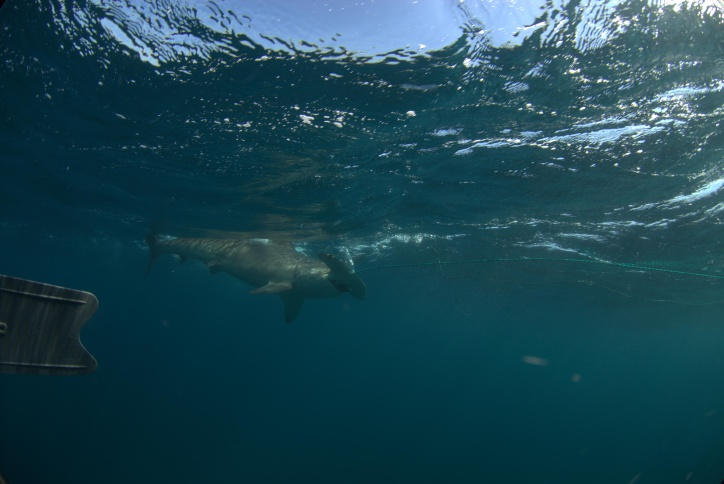Hammer: (119, 201, 374, 336)
